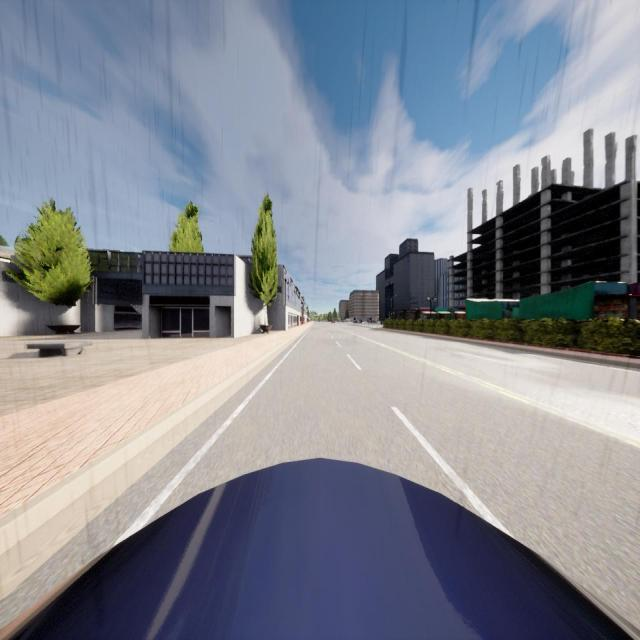Vehicle: (2, 455, 640, 640)
